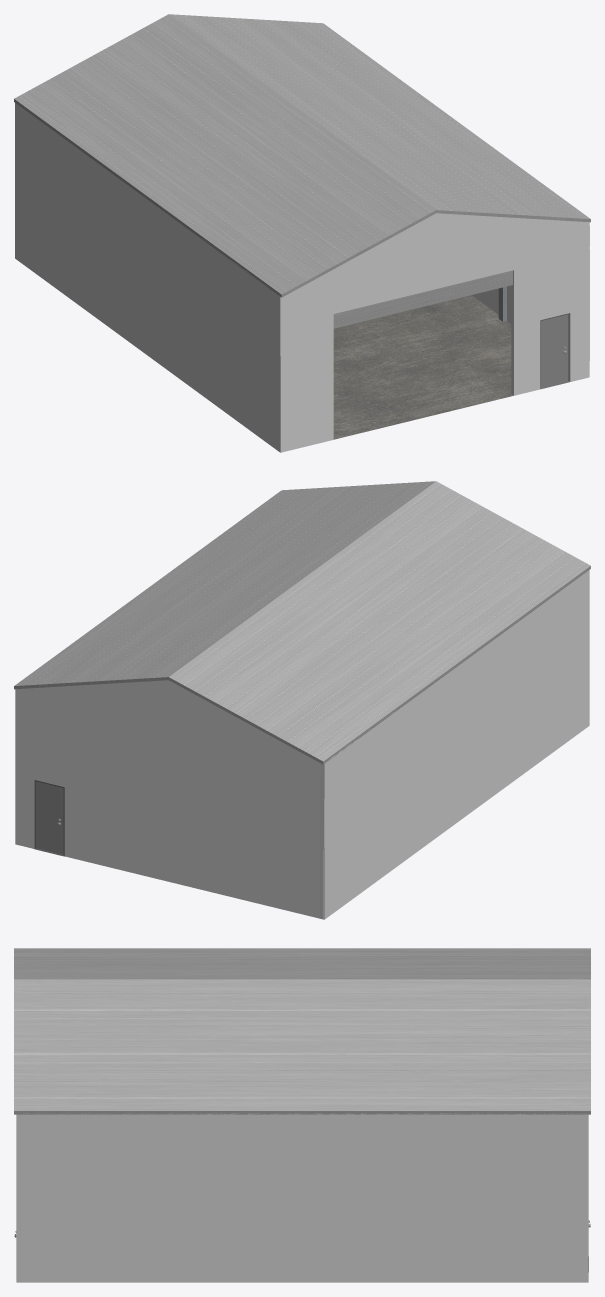
The model's file is shed01_w_textures.fbx.
3 renders of one model, top to bottom at view 1: azimuth 30°, elevation 25°; view 2: azimuth 150°, elevation 25°; view 3: azimuth 270°, elevation 25°, orthographic. The views are drawn at different scales.
Parts seen in each view (by area): view 1: Roof, Wall_L, Wall_F, Floor, Top Bit, Front, Wall_R; view 2: Roof, Wall_B, Wall_L, Back; view 3: Wall_R, Roof.
Boxes of the visible parts, <box> form: Roof: <box>14,14,590,297</box>; Wall_L: <box>15,103,280,452</box>; Wall_F: <box>280,213,589,452</box>; Floor: <box>333,295,513,439</box>; Top Bit: <box>333,270,512,328</box>; Front: <box>540,313,569,389</box>; Wall_R: <box>472,247,589,377</box>; Roof: <box>14,481,590,764</box>; Wall_B: <box>15,680,324,919</box>; Wall_L: <box>324,570,589,919</box>; Back: <box>34,780,64,856</box>; Wall_R: <box>16,1113,588,1282</box>; Roof: <box>14,948,590,1114</box>.
Bounding box in the file's own units: 1030 × 655 × 1543.
14 materials, 6 textured.
